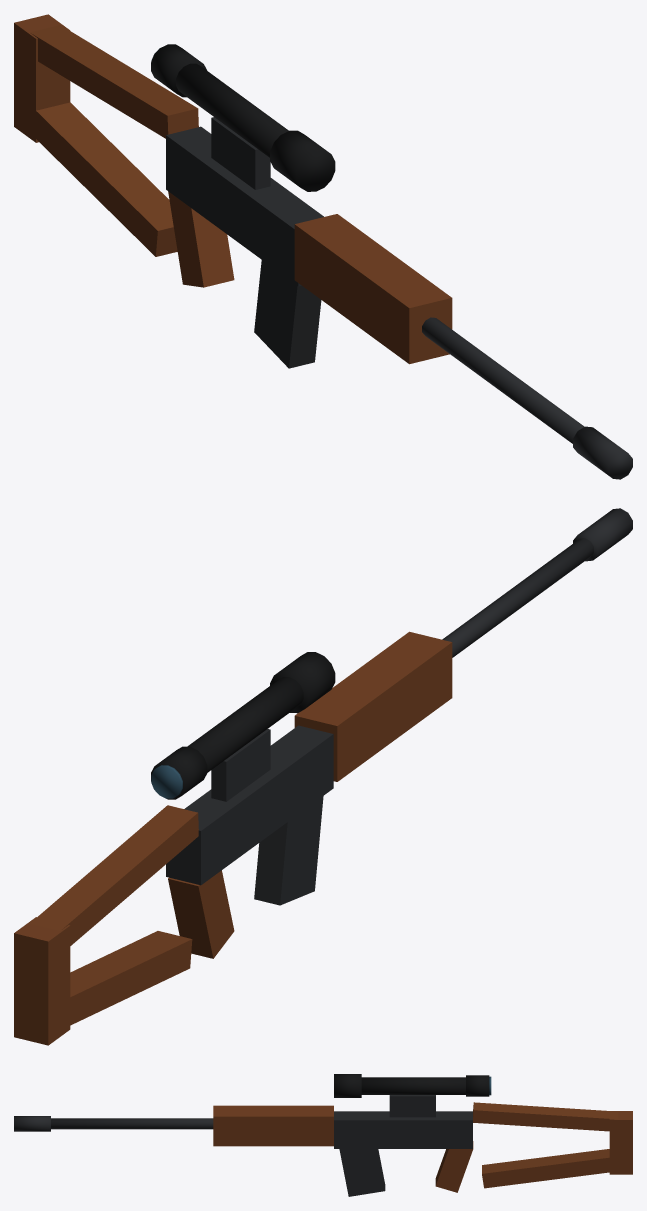
File: wpn_svd.glb
3 renders of one model, top to bottom at view 1: azimuth 30°, elevation 25°; view 2: azimuth 150°, elevation 25°; view 3: azimuth 270°, elevation 25°, orthographic. The views are drawn at different scales.
Parts seen in each view (by area): view 1: Weapon; view 2: Weapon; view 3: Weapon.
Part boxes in pixels (x1=…): Weapon: x1=14, y1=14, x2=632, y2=479; Weapon: x1=14, y1=508, x2=632, y2=1045; Weapon: x1=14, y1=1074, x2=632, y2=1196.
Bounding box in the file's own units: 0.056 × 0.282 × 1.34.
